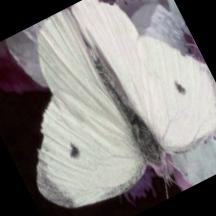butterfly: (36, 0, 216, 207)
